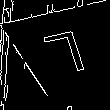L_S: (43, 30, 94, 86)
